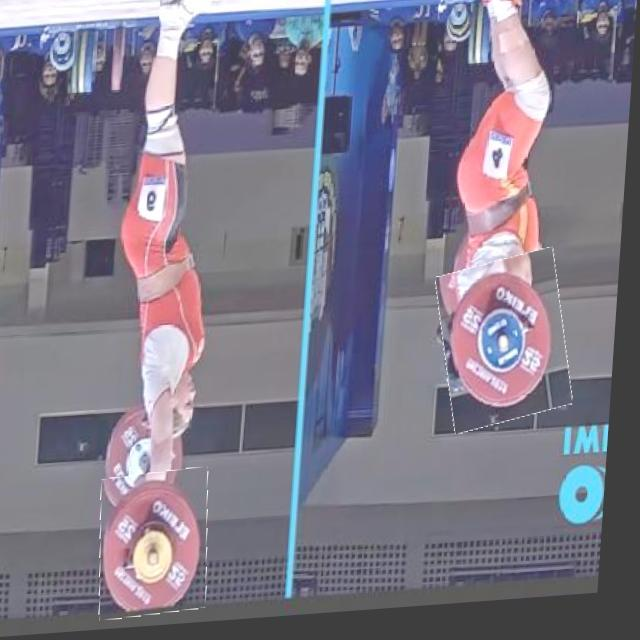barbell: (440, 259, 581, 439), (104, 472, 221, 622)
